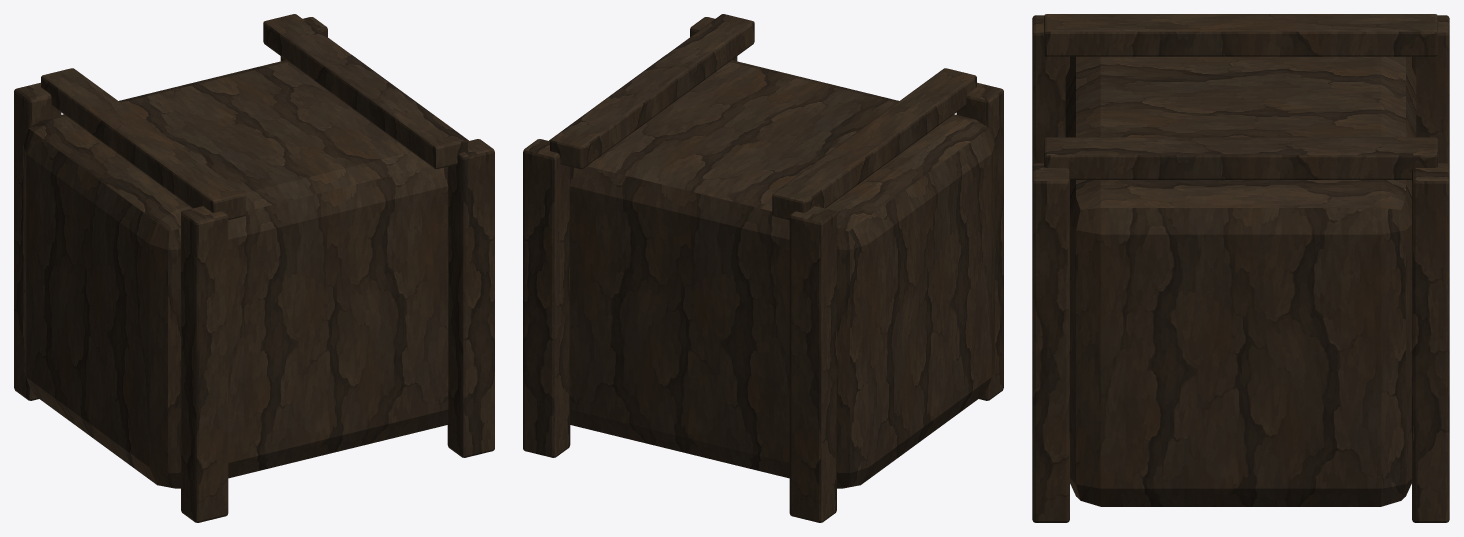
The picture shows the model from 3 angles, left to right: view 1: azimuth 30°, elevation 25°; view 2: azimuth 150°, elevation 25°; view 3: azimuth 270°, elevation 25°; orthographic projection. The views are drawn at different scales.
Parts seen in each view (by area): view 1: Closed supply chest; view 2: Closed supply chest; view 3: Closed supply chest.
Part boxes in pixels (x1,y1,x2,y2): Closed supply chest: (14, 14, 494, 522); Closed supply chest: (523, 14, 1003, 522); Closed supply chest: (1032, 14, 1449, 522).
Size of the model in its own units: 1.5 by 1.35 by 1.43.
1 material, 1 textured.
